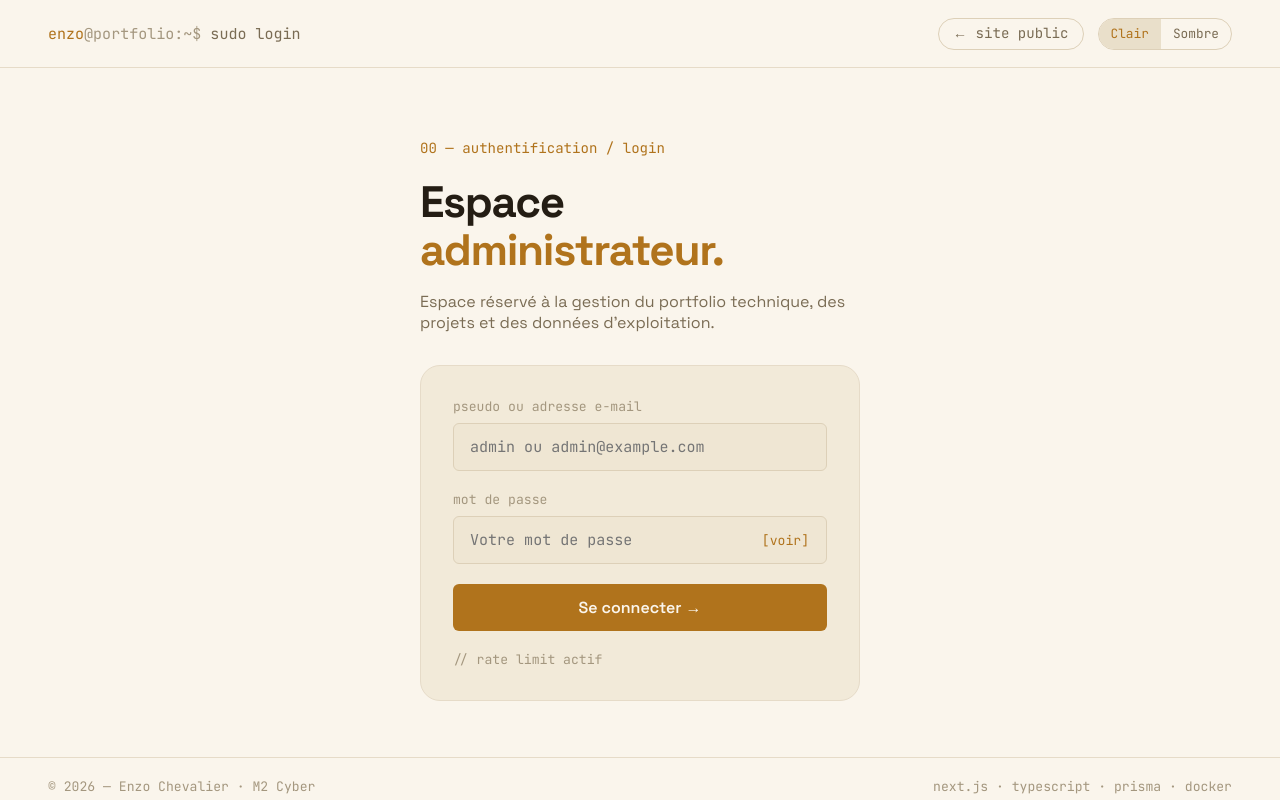
Test: AdminLoginPage › renders an error when credentials are rejected
Type "admin" into the field labelled "Pseudo ou adresse e-mail" at coordinates (640, 447), box [453,423,827,471]
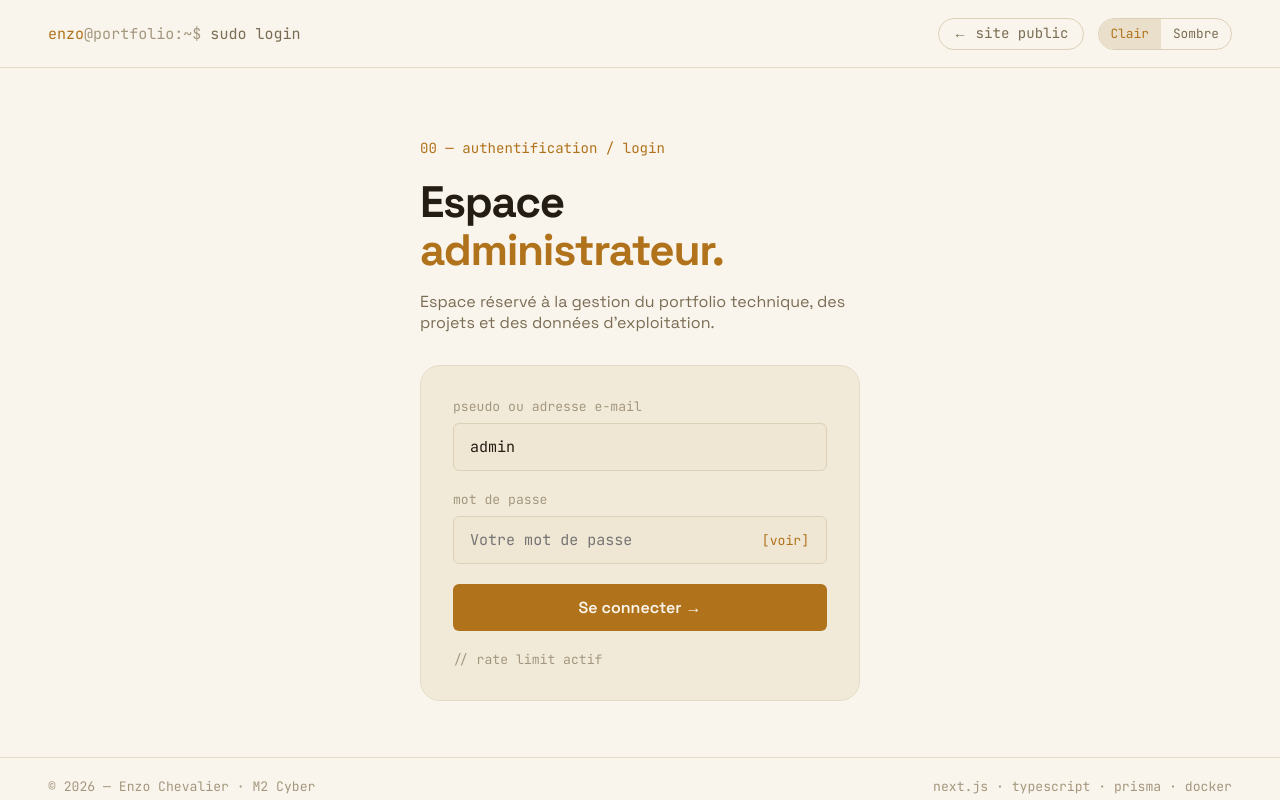
Type "wrong-password" into the password field labelled "Mot de passe" at coordinates (640, 540), box [453,516,827,564]
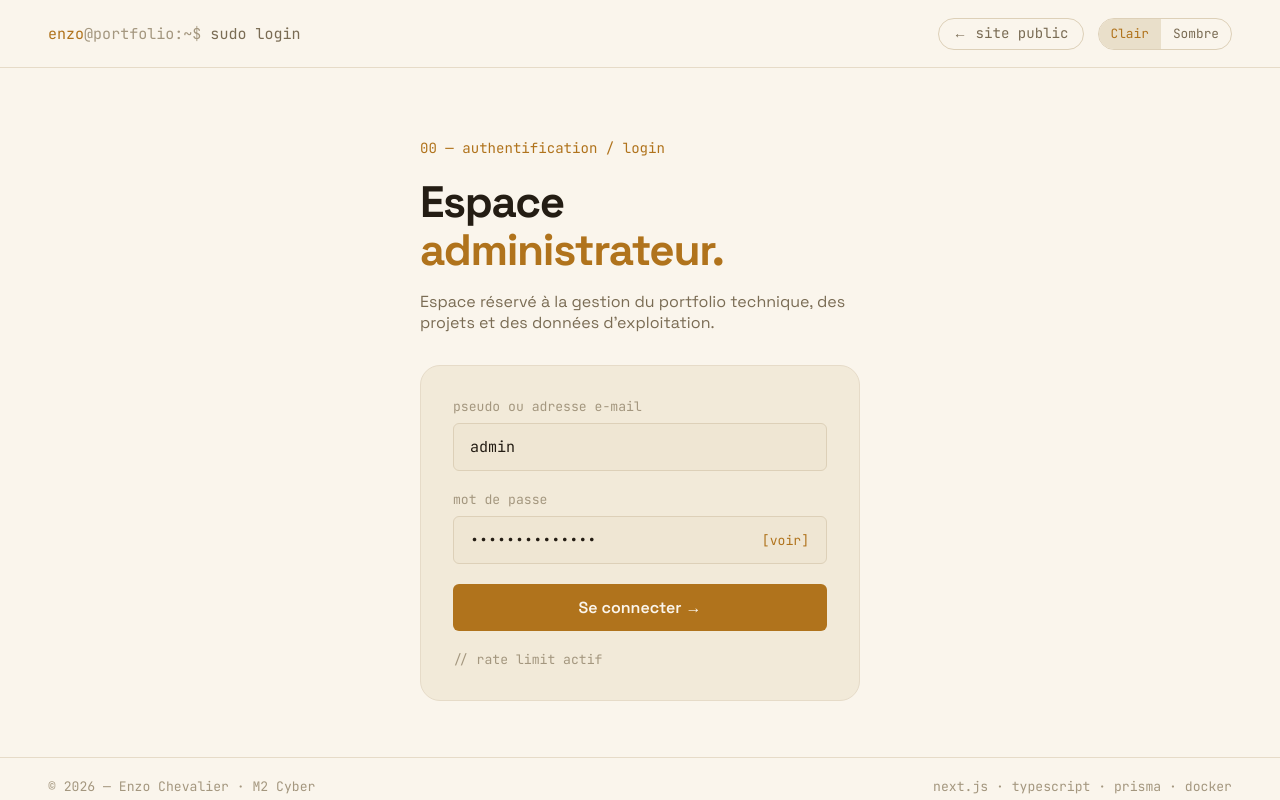
Click the button "Se connecter →" at coordinates (640, 607), box [453,584,827,631]
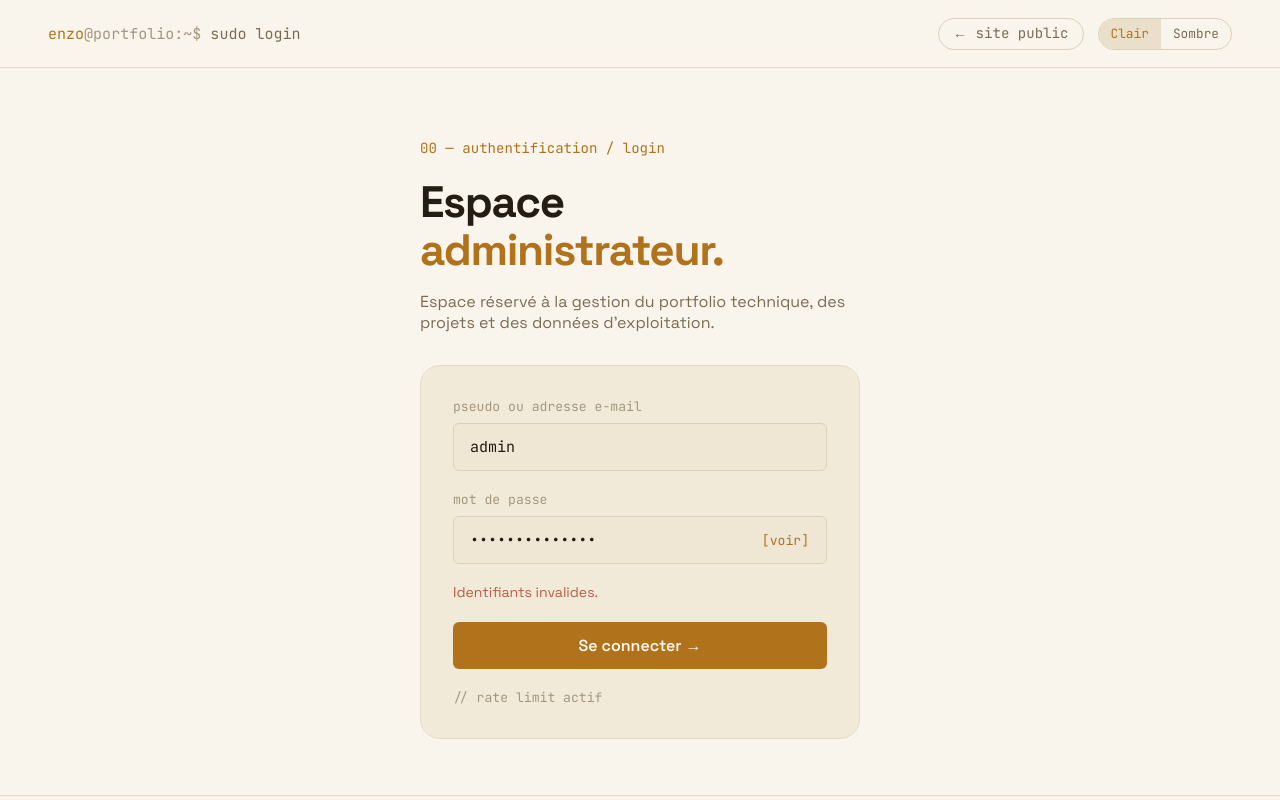
Check: the message reads "Identifiants invalides.", box [453,584,598,602]
